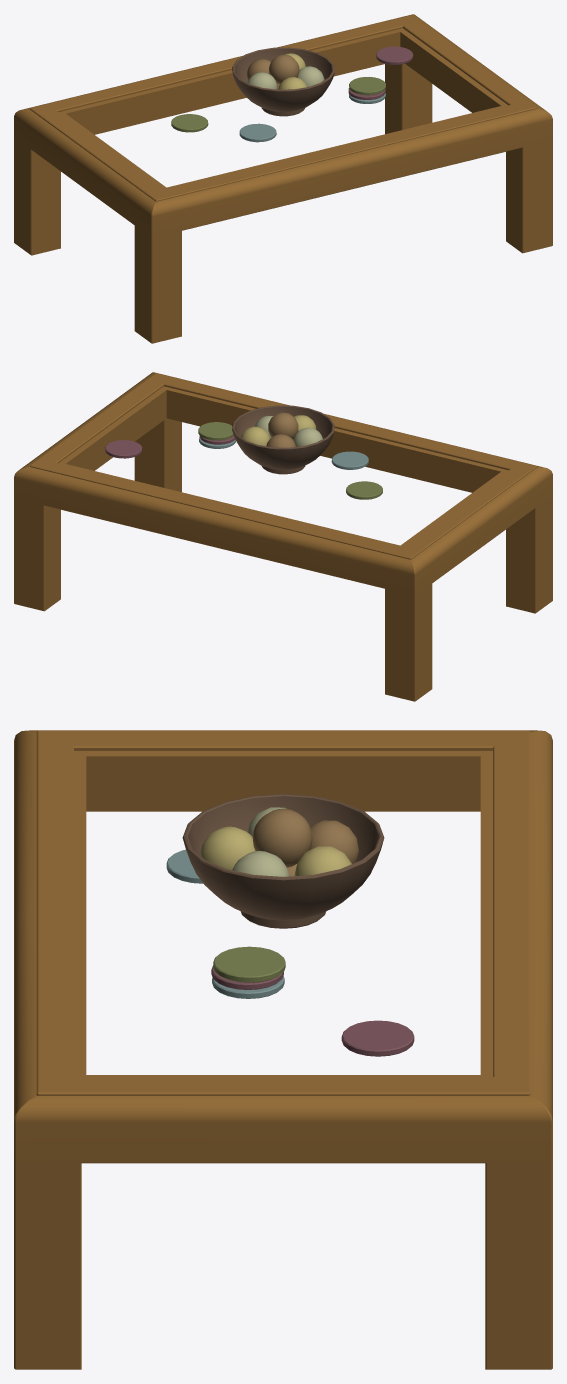
File: CoffeeTable_Clutter.fbx
The picture shows the model from 3 angles, top to bottom: view 1: azimuth 30°, elevation 25°; view 2: azimuth 150°, elevation 25°; view 3: azimuth 270°, elevation 25°; orthographic projection. The views are drawn at different scales.
Parts seen in each view (by area): view 1: Table, Bowl_of_Spheres, CoasterPurple2, CoasterGreen2, CoasterBlue2, CoasterGreen1; view 2: Table, Bowl_of_Spheres, CoasterPurple2, CoasterBlue2, CoasterGreen2, CoasterGreen1; view 3: Table, Bowl_of_Spheres, CoasterPurple2, CoasterGreen1.
Part boxes in pixels (x1,y1,x2,y2): Table: [14, 14, 552, 343]; Bowl_of_Spheres: [232, 47, 334, 116]; CoasterPurple2: [376, 46, 413, 64]; CoasterGreen2: [171, 114, 208, 132]; CoasterBlue2: [239, 123, 276, 142]; CoasterGreen1: [349, 76, 385, 95]; Table: [14, 372, 552, 701]; Bowl_of_Spheres: [232, 405, 334, 474]; CoasterPurple2: [105, 440, 142, 458]; CoasterBlue2: [331, 451, 368, 469]; CoasterGreen2: [346, 481, 382, 499]; CoasterGreen1: [198, 422, 233, 440]; Table: [14, 730, 552, 1369]; Bowl_of_Spheres: [182, 794, 384, 928]; CoasterPurple2: [341, 1020, 414, 1056]; CoasterGreen1: [213, 946, 285, 982].
Bounding box in the file's own units: 257 × 115 × 153.
